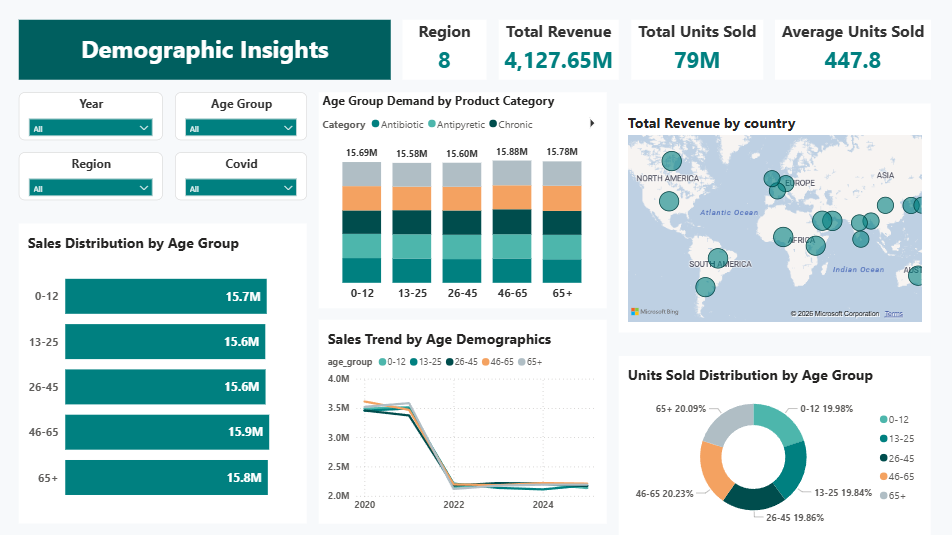

The dashboard page shown, as its layout file describes it:
{"tool":"powerbi","page":{"name":"Demographic Insights","canvas":[1280,720],"ordinal":5},"visuals":[{"type":"textbox","box":[32,32,496,80],"z":0},{"type":"card","title":"Total Revenue","fields":{"Values":["_KPI_Table.Total Revenue"]},"box":[672,32,160,80],"z":1000},{"type":"card","title":"Total Units Sold","fields":{"Values":["_KPI_Table.Total Units Sold"]},"box":[848,32,176,80],"z":2000},{"type":"card","title":"Average Units Sold","fields":{"Values":["_KPI_Table.Average Units Sold"]},"box":[1040,32,208,80],"z":3000},{"type":"card","title":"Region","fields":{"Values":["Count(Dim_Region.region)"]},"box":[544,32,112,80],"z":4000},{"type":"donutChart","title":"Units Sold Distribution by Age Group","fields":{"Category":["Dim_Demographics.age_group"],"Y":["_KPI_Table.Total Units Sold"]},"box":[832,480,416,240],"z":5000},{"type":"columnChart","title":"Age Group Demand by Product Category","fields":{"Category":["Dim_Demographics.age_group"],"Y":["_KPI_Table.Total Units Sold"],"Series":["Dim_Product.category"]},"box":[432,128,384,288],"z":6000},{"type":"map","fields":{"Category":["Dim_Region.country"],"Size":["_KPI_Table.Total Revenue"]},"box":[832,144,416,304],"z":7000},{"type":"clusteredBarChart","title":"Sales Distribution by Age Group","fields":{"Y":["_KPI_Table.Total Units Sold"],"Category":["Dim_Demographics.age_group"]},"box":[32,304,384,400],"z":8000},{"type":"lineChart","title":"Sales Trend by Age Demographics","fields":{"Category":["Fact_Sales.year"],"Y":["_KPI_Table.Total Units Sold"],"Series":["Dim_Demographics.age_group"]},"box":[432,432,384,272],"z":9000},{"type":"slicer","title":"Year","fields":{"Values":["Dim_Date.Year"]},"box":[32,128,192,64],"z":10000},{"type":"slicer","title":"Age Group","fields":{"Values":["Dim_Demographics.age_group"]},"box":[240,128,176,64],"z":11000},{"type":"slicer","title":"Region","fields":{"Values":["Dim_Region.region"]},"box":[32,208,192,64],"z":12000},{"type":"slicer","title":"Covid ","fields":{"Values":["Fact_Sales.covid_flag"]},"box":[240,208,176,64],"z":13000}]}

Visuals, with their boxes in screenshot pixels (x1, y1, x2, y2), scaled from the page's 1280x720 canvas onto the 952x535 screenshot:
textbox: [left=24, top=24, right=393, bottom=83]
"Total Revenue" card: [left=500, top=24, right=619, bottom=83]
"Total Units Sold" card: [left=631, top=24, right=762, bottom=83]
"Average Units Sold" card: [left=774, top=24, right=928, bottom=83]
"Region" card: [left=405, top=24, right=488, bottom=83]
"Units Sold Distribution by Age Group" donutChart: [left=619, top=357, right=928, bottom=534]
"Age Group Demand by Product Category" columnChart: [left=321, top=95, right=607, bottom=309]
map - Dim_Region.country x _KPI_Table.Total Revenue: [left=619, top=107, right=928, bottom=333]
"Sales Distribution by Age Group" clusteredBarChart: [left=24, top=226, right=309, bottom=523]
"Sales Trend by Age Demographics" lineChart: [left=321, top=321, right=607, bottom=523]
"Year" slicer: [left=24, top=95, right=167, bottom=143]
"Age Group" slicer: [left=178, top=95, right=309, bottom=143]
"Region" slicer: [left=24, top=155, right=167, bottom=202]
"Covid " slicer: [left=178, top=155, right=309, bottom=202]
